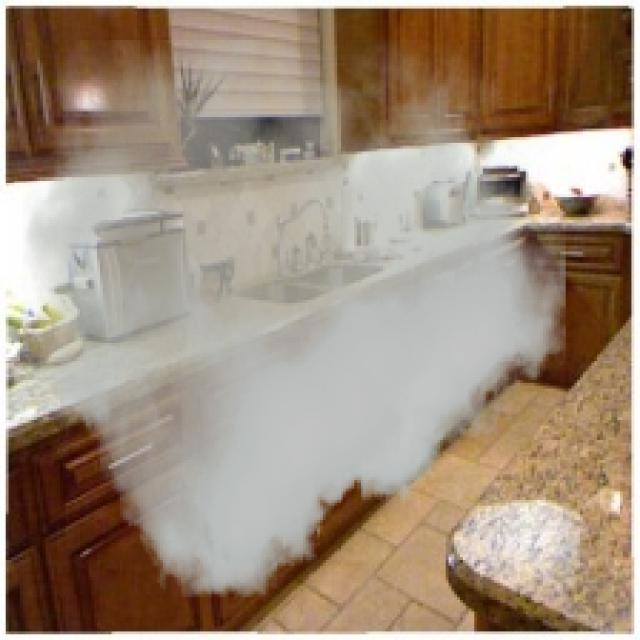smoke: (23, 40, 566, 597)
